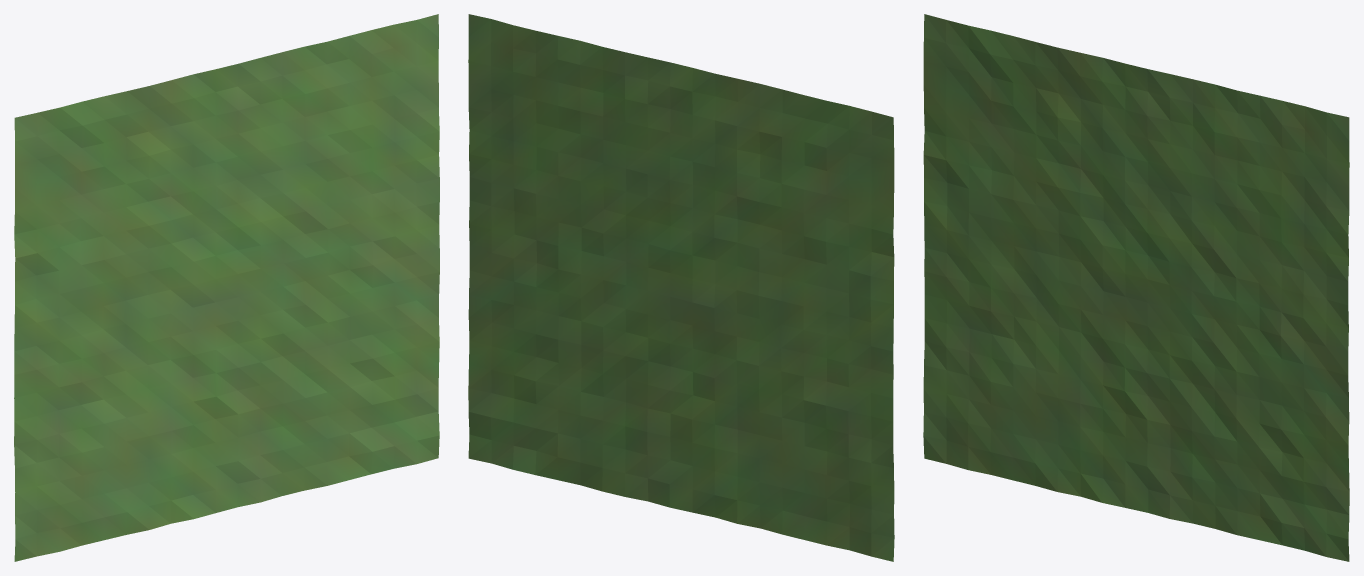
File: flat_terrain.glb
The picture shows the model from 3 angles, left to right: view 1: azimuth 30°, elevation 25°; view 2: azimuth 150°, elevation 25°; view 3: azimuth 330°, elevation 25°; orthographic projection.
Parts seen in each view (by area): view 1: geometry_0; view 2: geometry_0; view 3: geometry_0.
Boxes of the visible parts, left/top/right/bottom form: geometry_0: left=14, top=14, right=439, bottom=561; geometry_0: left=468, top=14, right=894, bottom=561; geometry_0: left=923, top=14, right=1349, bottom=561.
Bounding box in the file's own units: 10 × 10 × 0.079.
